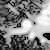node: (19, 19, 34, 30), (29, 32, 36, 40)
